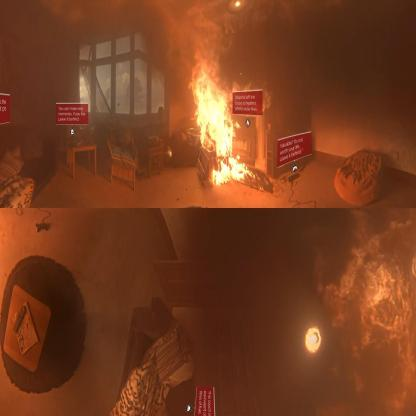fire: (325, 227, 416, 410), (188, 57, 255, 188)
